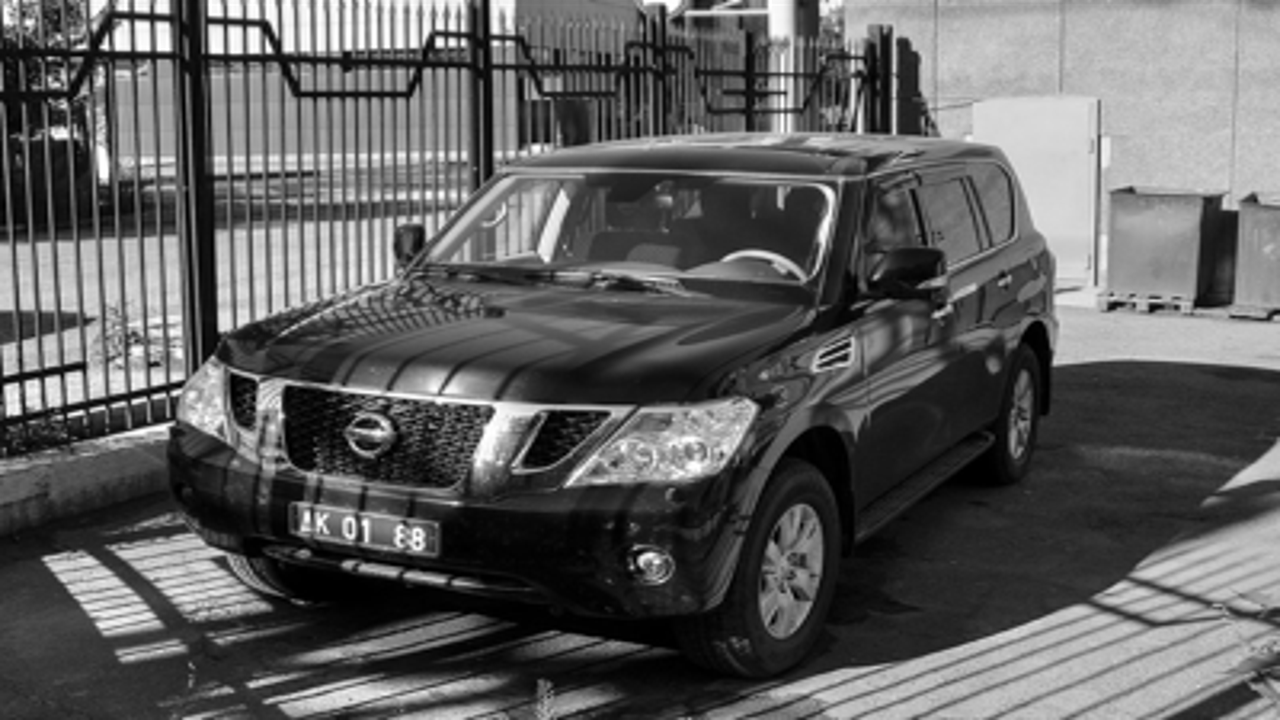license: (279, 491, 450, 572)
